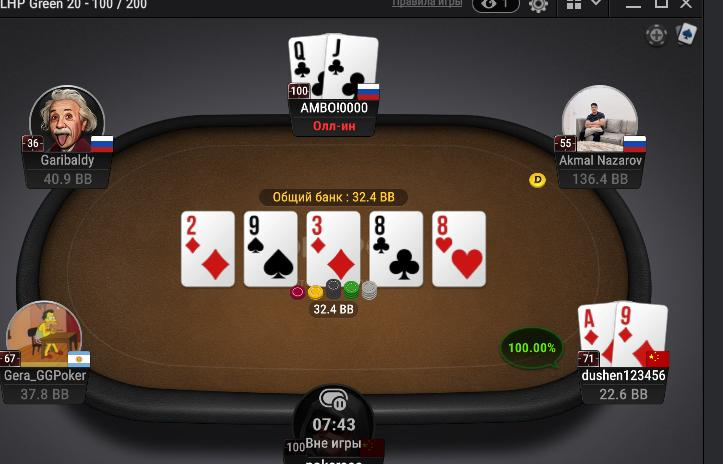2d: (182, 213, 234, 286)
3d: (307, 212, 361, 287)
8c: (370, 211, 422, 285)
8h: (431, 211, 487, 286)
9d: (616, 300, 667, 368)
9s: (244, 213, 296, 287)
Ad: (576, 301, 615, 369)
Jc: (326, 32, 377, 97)
Qc: (288, 34, 327, 102)
